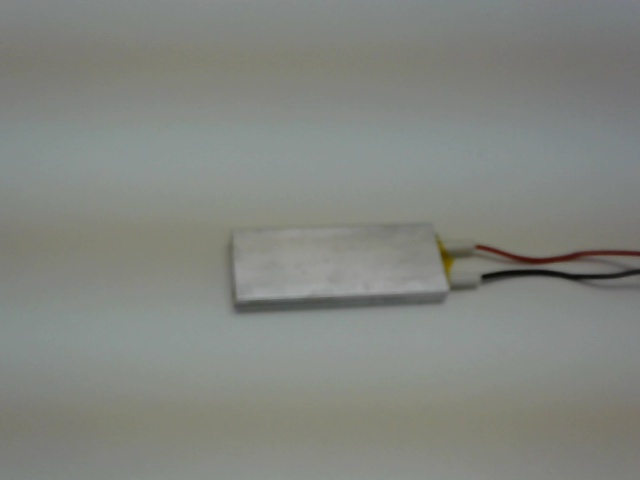heater: (223, 217, 498, 320)
